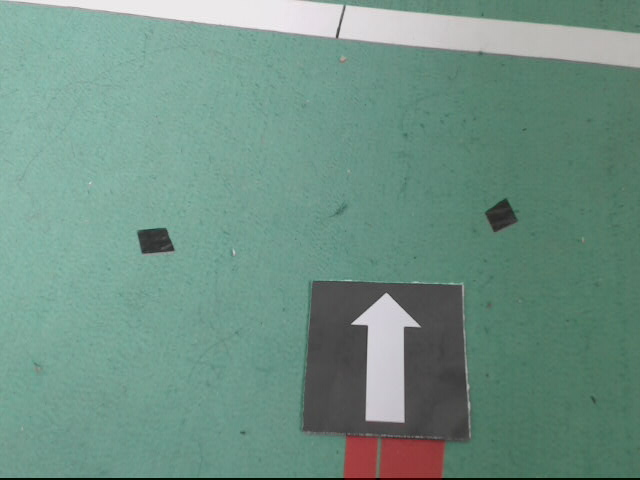straight: (303, 282, 473, 440)
